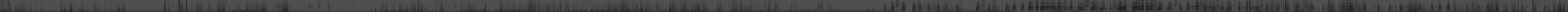Moan: (901, 0, 906, 12), (891, 0, 895, 12), (912, 0, 916, 12), (976, 0, 980, 12), (1012, 0, 1016, 12), (1040, 0, 1044, 12), (1036, 0, 1038, 12)
